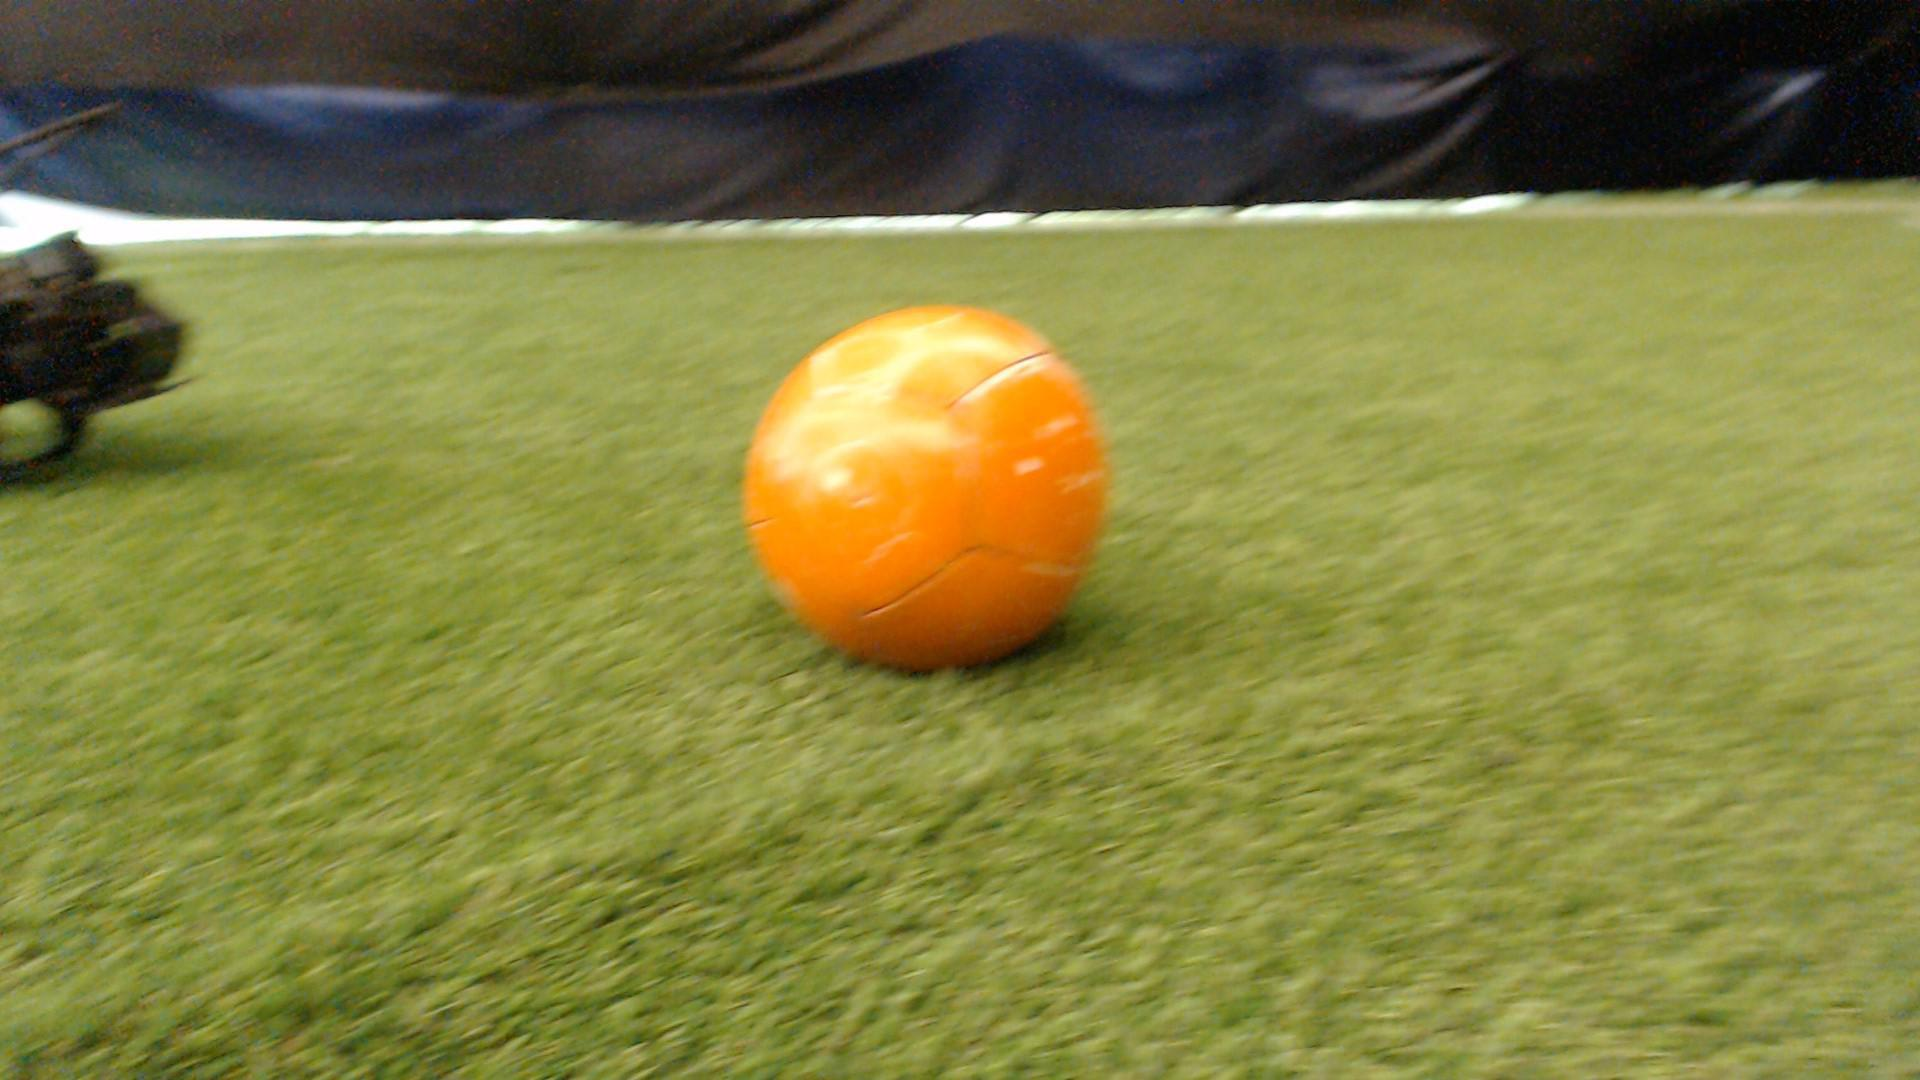bola: (728, 286, 1145, 692)
